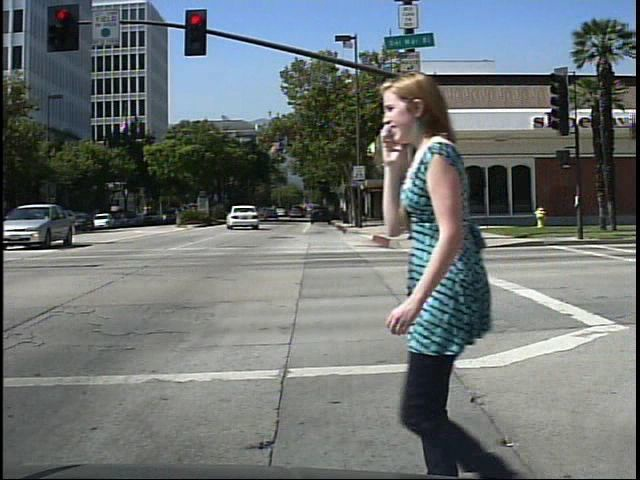person: (353, 66, 554, 479)
